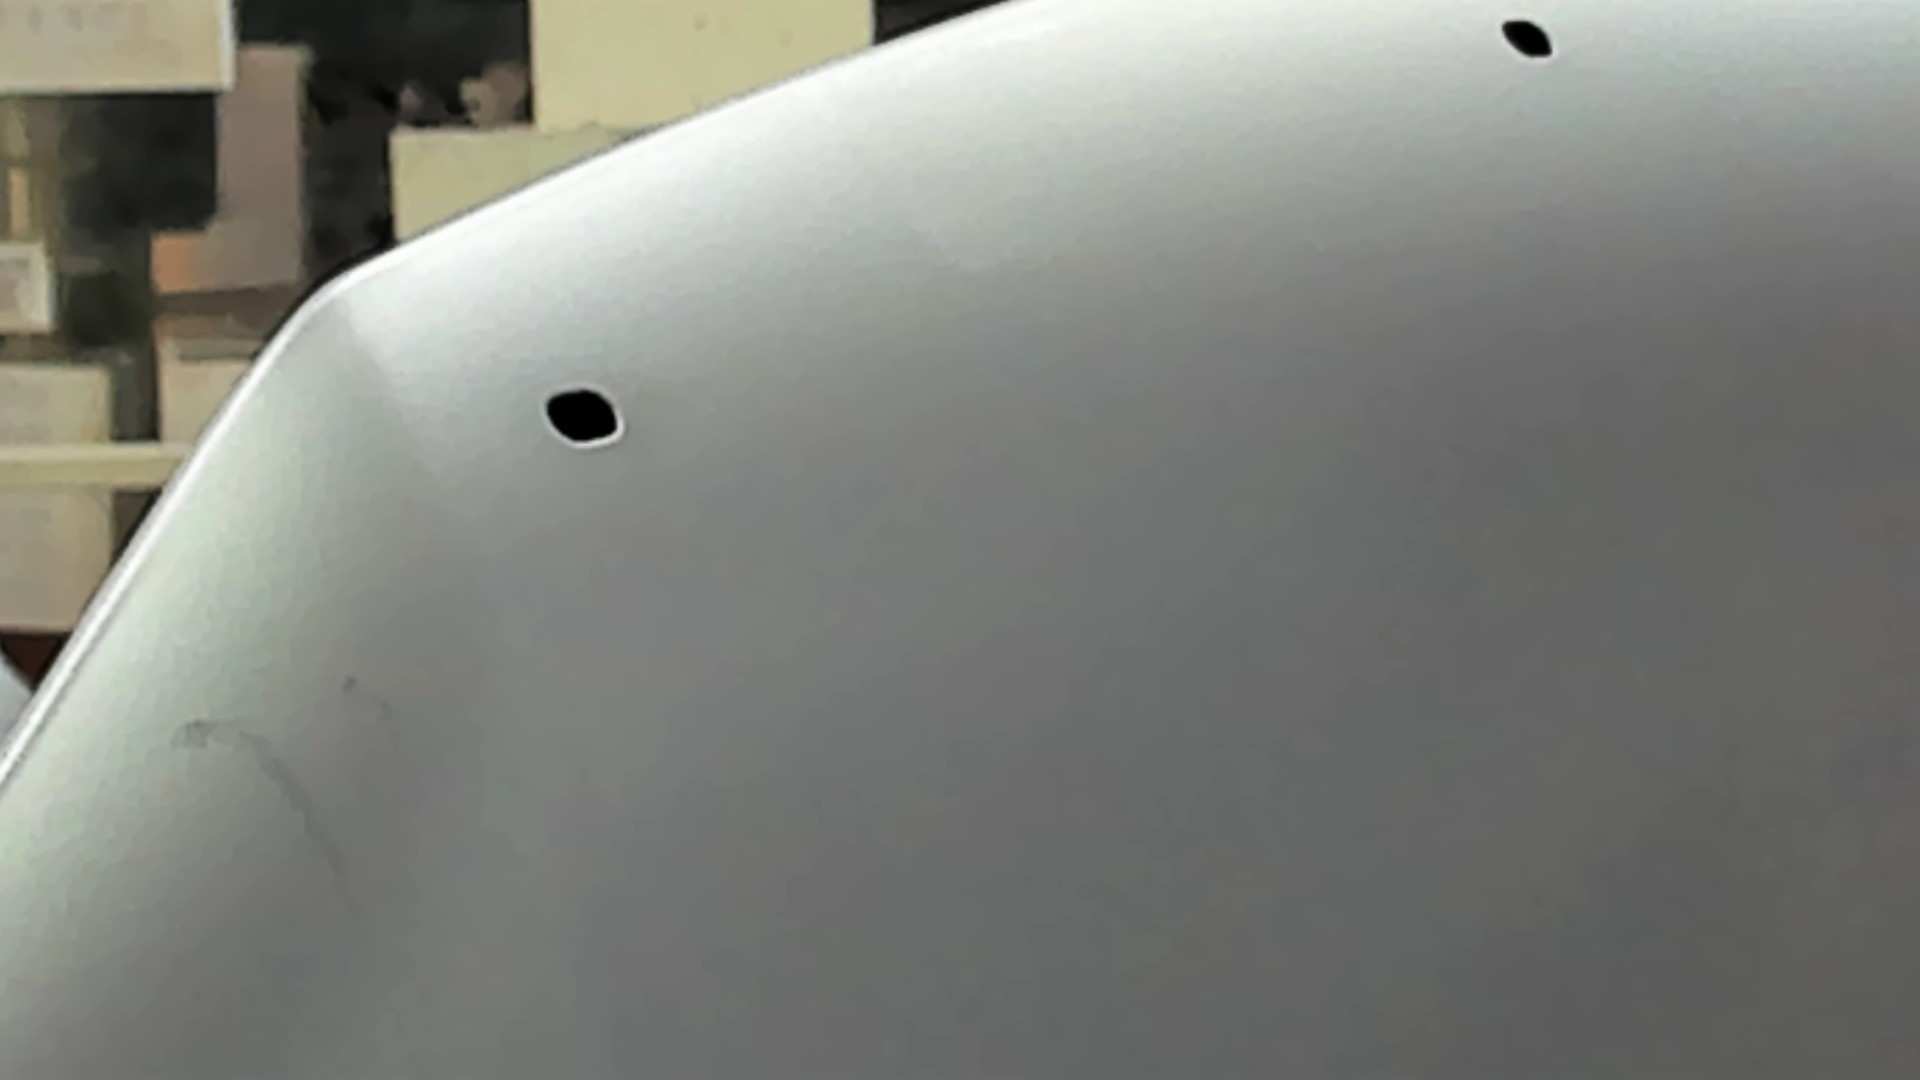amorfo: (537, 381, 629, 451), (1495, 11, 1557, 65)
